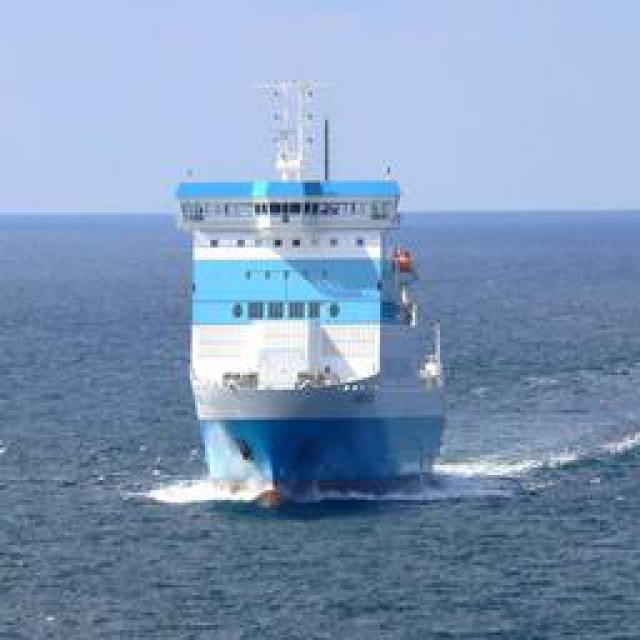Ship: (175, 158, 448, 506)
